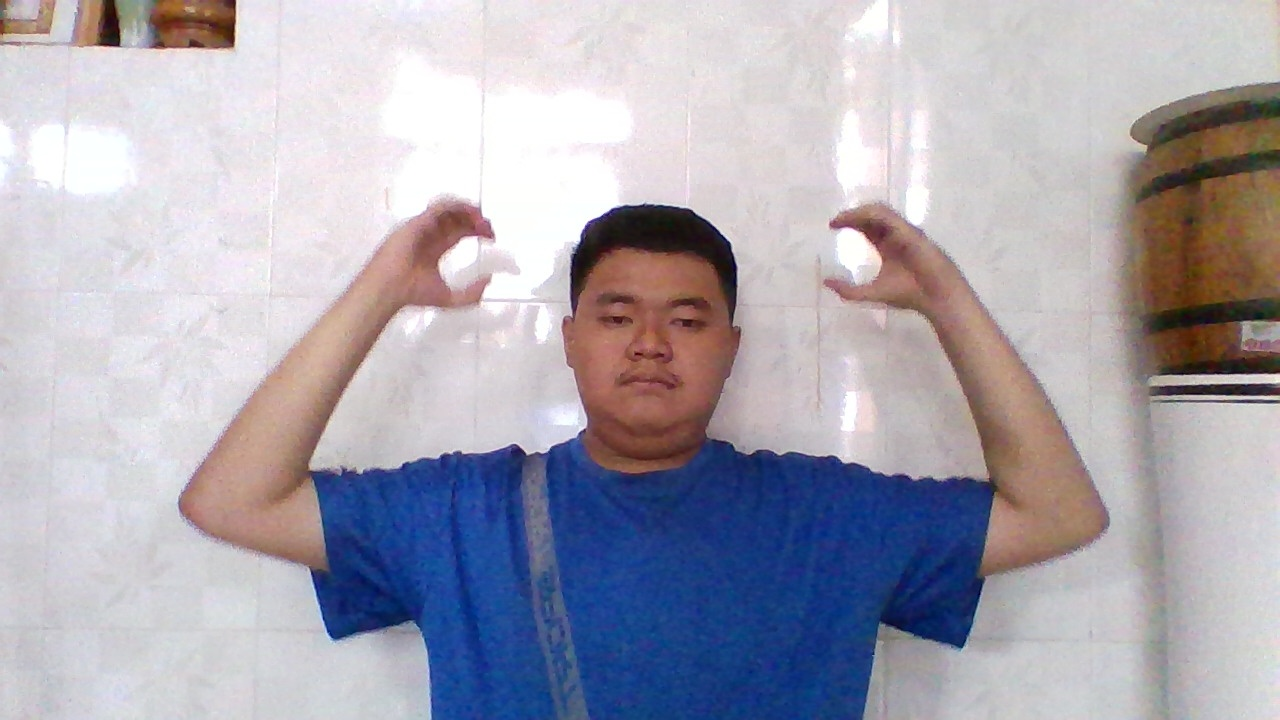C: (376, 185, 512, 317), (815, 193, 948, 316)
